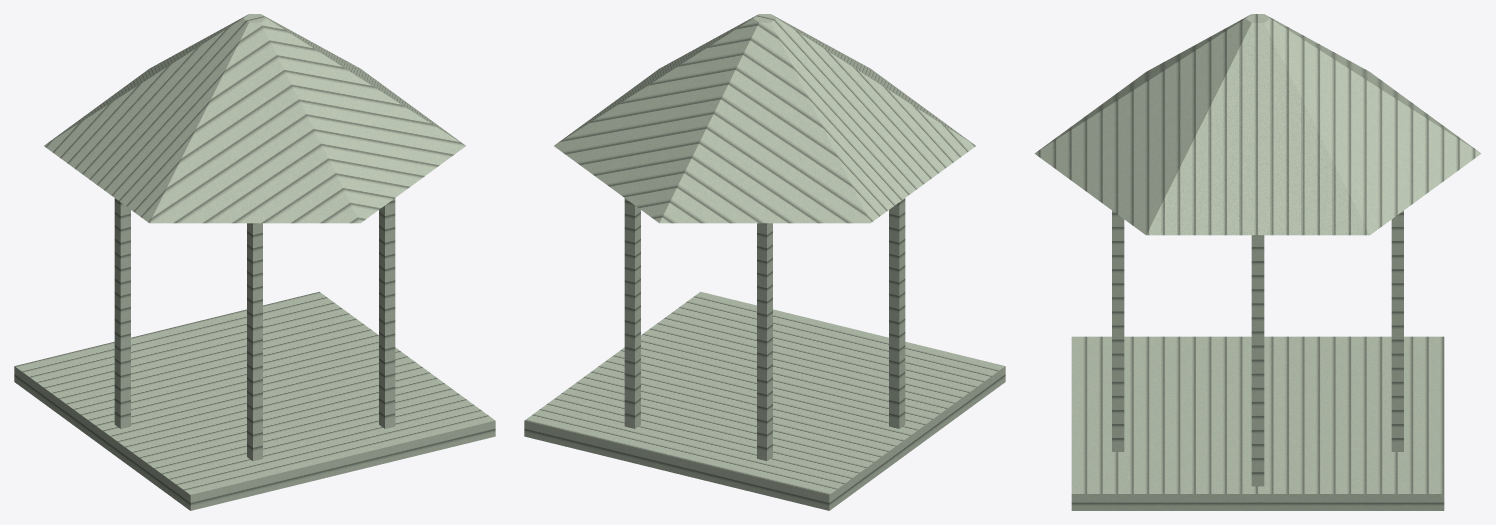
Rendered from gazebo_bandstand.glb.
The picture shows the model from 3 angles, left to right: view 1: azimuth 30°, elevation 25°; view 2: azimuth 150°, elevation 25°; view 3: azimuth 270°, elevation 25°; orthographic projection. The views are drawn at different scales.
Visible parts, largest first — view 1: gazebo_bandstand-col; view 2: gazebo_bandstand-col; view 3: gazebo_bandstand-col.
Boxes of the visible parts, <box> form: gazebo_bandstand-col: <box>14,14,495,510</box>; gazebo_bandstand-col: <box>524,14,1005,510</box>; gazebo_bandstand-col: <box>1034,14,1481,510</box>.
Bounding box in the file's own units: 3.12 × 3.67 × 3.6.
1 material, 1 textured.
